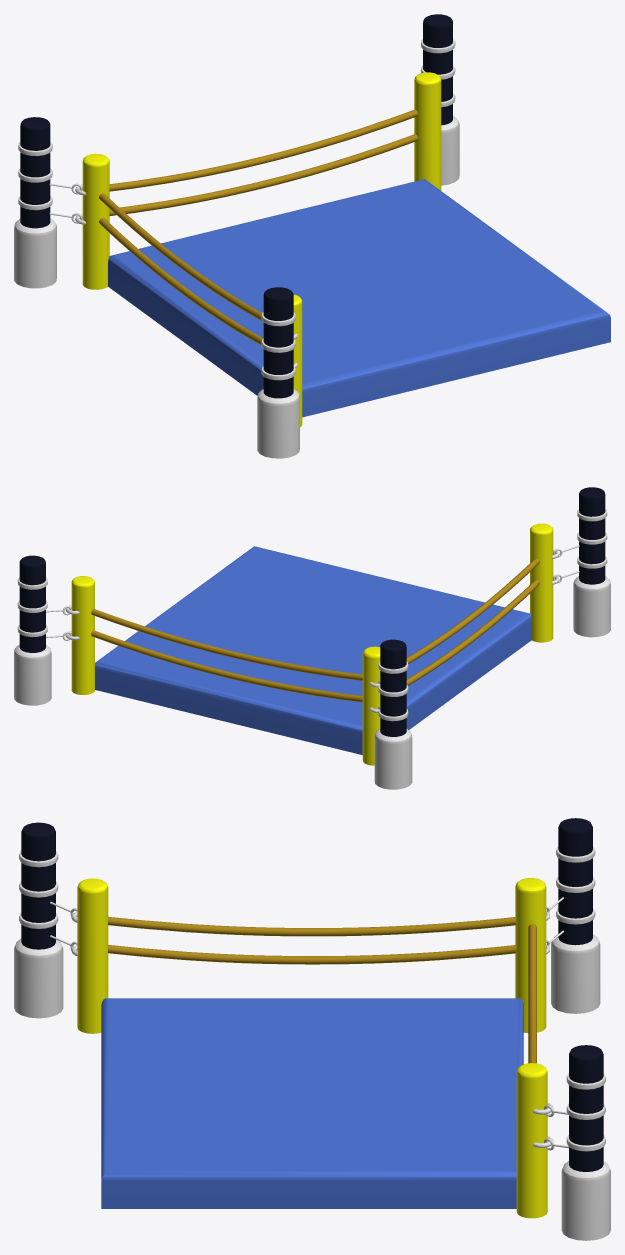
The model's file is ring final.fbx.
3 views of the same model, one above another, from view 1: azimuth 30°, elevation 25°; view 2: azimuth 150°, elevation 25°; view 3: azimuth 270°, elevation 25° (orthographic). The views are drawn at different scales.
Visible parts, largest first — view 1: ring, pCylinder1 (×3), cuerda (×4), pCylinder2 (×3); view 2: ring, pCylinder1 (×3), pCylinder2 (×3), cuerda (×4); view 3: ring, pCylinder1 (×3), pCylinder2 (×3), cuerda (×3).
Boxes of the visible parts, left/top/right/bottom form: ring: left=108, top=179, right=610, bottom=417; pCylinder1 (×3): left=14, top=14, right=459, bottom=458; cuerda (×4): left=99, top=109, right=417, bottom=344; pCylinder2 (×3): left=82, top=72, right=441, bottom=426; ring: left=95, top=546, right=531, bottom=754; pCylinder1 (×3): left=14, top=487, right=610, bottom=789; pCylinder2 (×3): left=71, top=523, right=553, bottom=765; cuerda (×4): left=91, top=558, right=539, bottom=702; ring: left=101, top=998, right=523, bottom=1208; pCylinder1 (×3): left=14, top=818, right=610, bottom=1240; pCylinder2 (×3): left=77, top=878, right=547, bottom=1218; cuerda (×3): left=108, top=917, right=536, bottom=1063.
Size of the model in its own units: 15.27 by 5.17 by 15.55.
